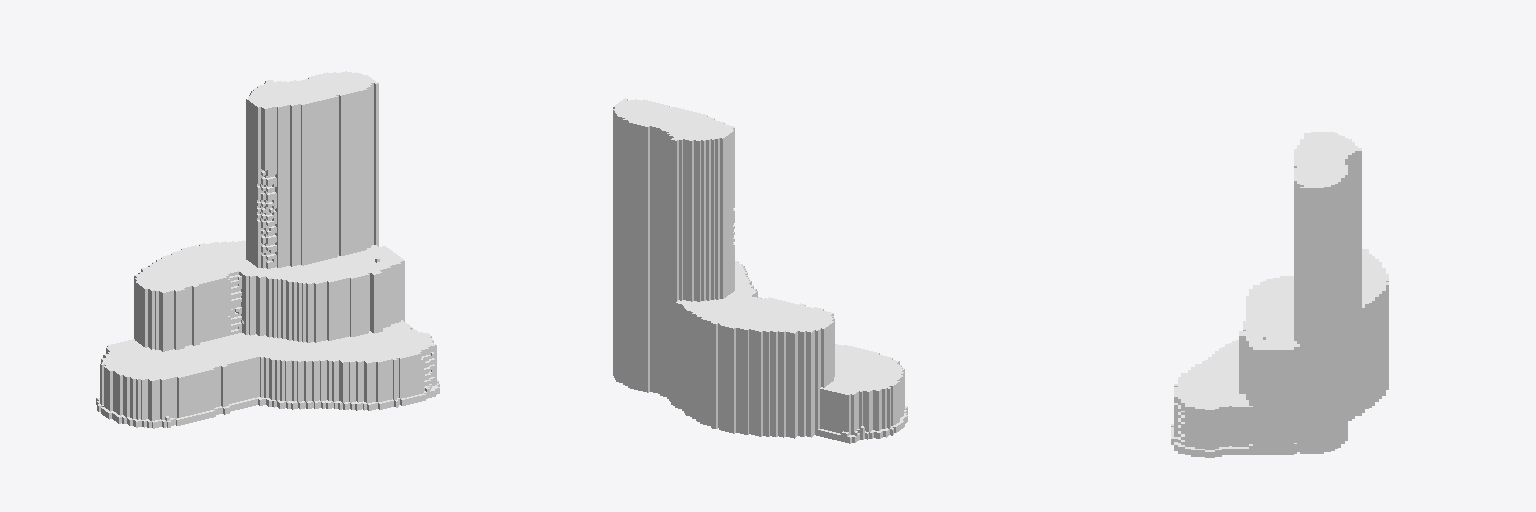
Rendered from test_island.obj.
3 views of the same model, side by side, from view 1: azimuth 30°, elevation 25°; view 2: azimuth 150°, elevation 25°; view 3: azimuth 270°, elevation 25° (orthographic).
Size of the model in its own units: 96 by 86 by 64.